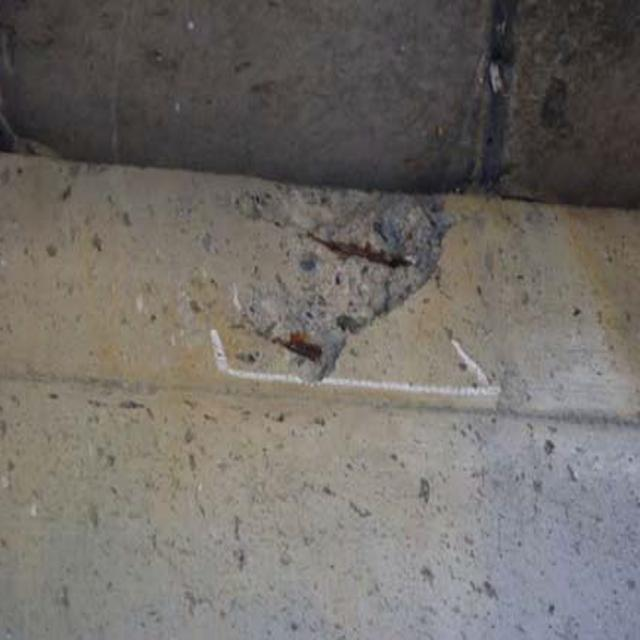spalling: (220, 153, 469, 386)
